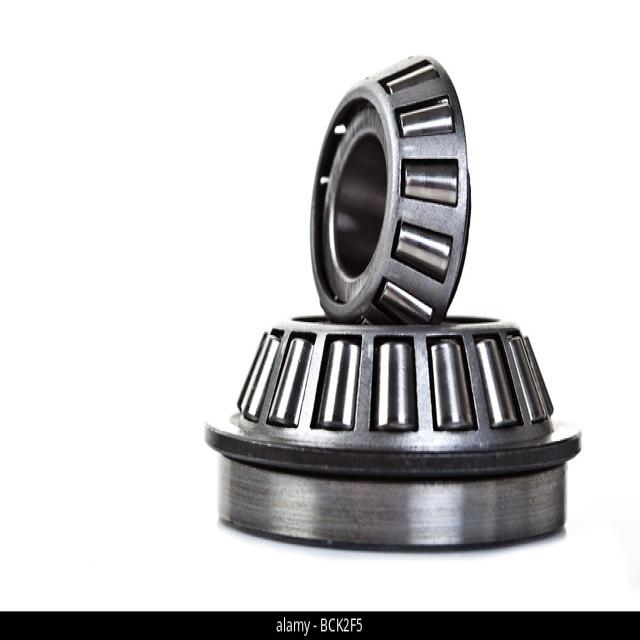Bearing: (203, 310, 586, 560), (306, 51, 475, 332)
